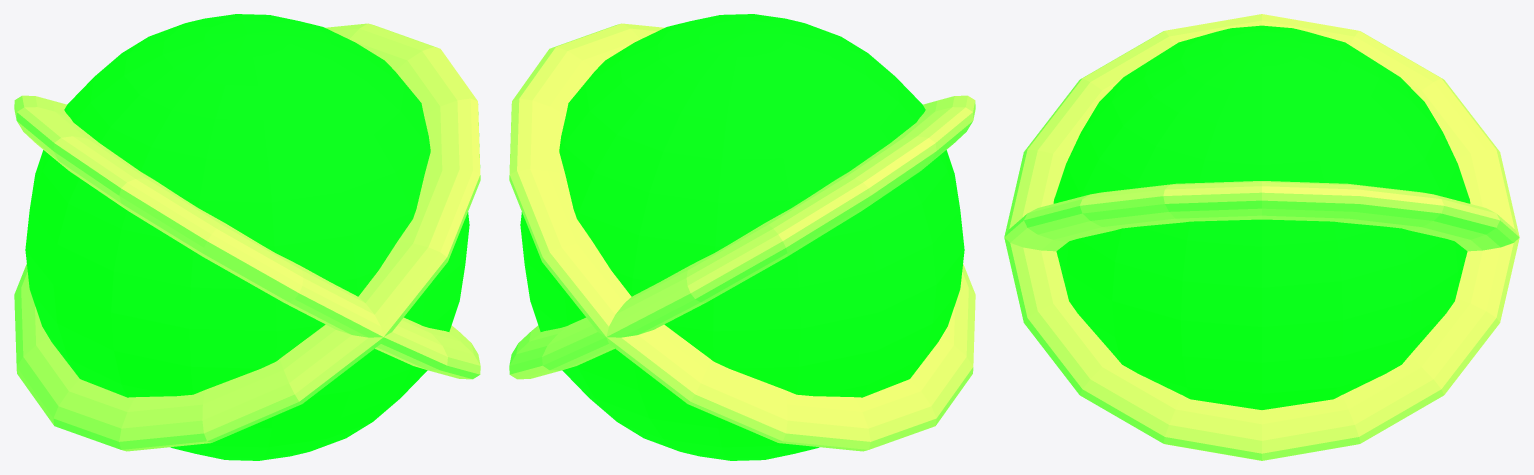
Rendered from EnergyCapsule.fbx.
3 views of the same model, side by side, from view 1: azimuth 30°, elevation 25°; view 2: azimuth 150°, elevation 25°; view 3: azimuth 270°, elevation 25° (orthographic). The views are drawn at different scales.
Visible parts, largest first — view 1: EnergyCapsule; view 2: EnergyCapsule; view 3: EnergyCapsule.
Boxes of the visible parts, x1=… form: EnergyCapsule: x1=14, y1=14, x2=480, y2=460; EnergyCapsule: x1=509, y1=14, x2=975, y2=460; EnergyCapsule: x1=1004, y1=14, x2=1519, y2=460.
Size of the model in its own units: 79 by 65.01 by 65.
